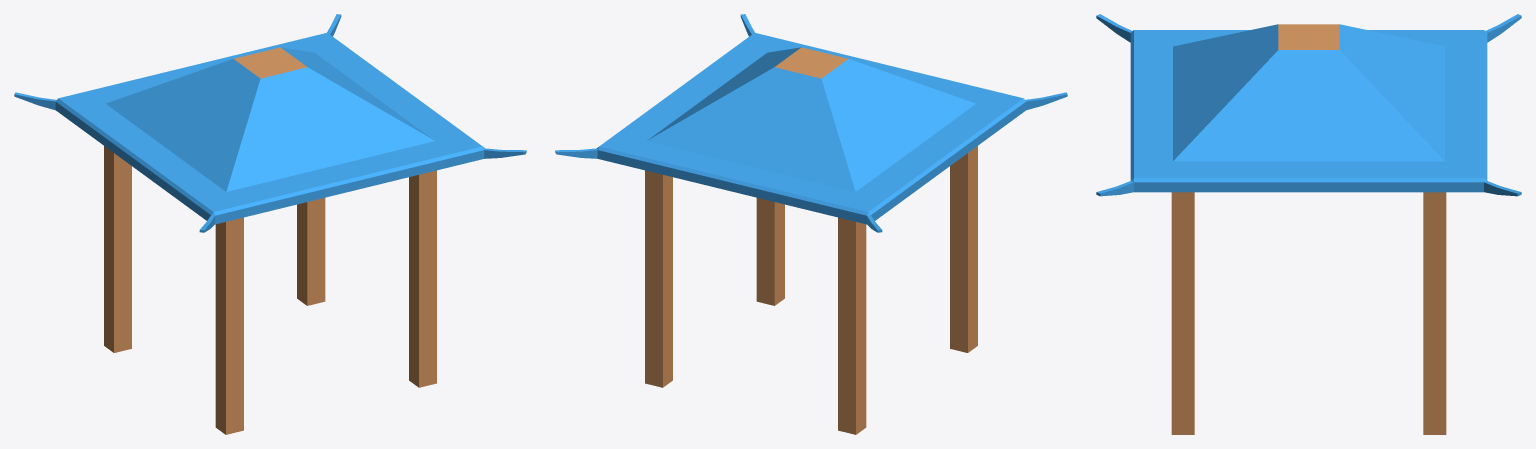
The model's file is Pavilion.glb.
3 views of the same model, side by side, from view 1: azimuth 30°, elevation 25°; view 2: azimuth 150°, elevation 25°; view 3: azimuth 270°, elevation 25° (orthographic). The views are drawn at different scales.
Parts seen in each view (by area): view 1: Pavilion; view 2: Pavilion; view 3: Pavilion.
Part boxes in pixels (bbox=[...]): Pavilion: bbox=[14, 14, 526, 434]; Pavilion: bbox=[555, 14, 1067, 434]; Pavilion: bbox=[1096, 14, 1521, 434].
Bounding box in the file's own units: 3.1 × 2.73 × 3.1.
Materials: 1 (1 with a texture image).
